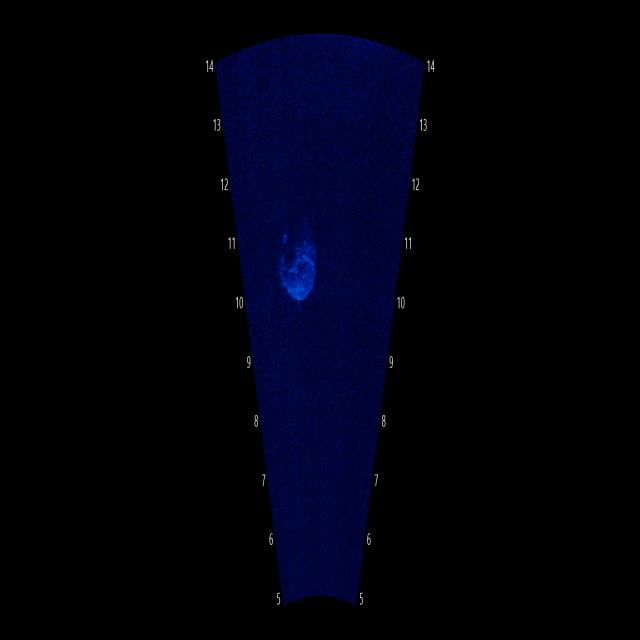circle: (274, 210, 322, 320)
